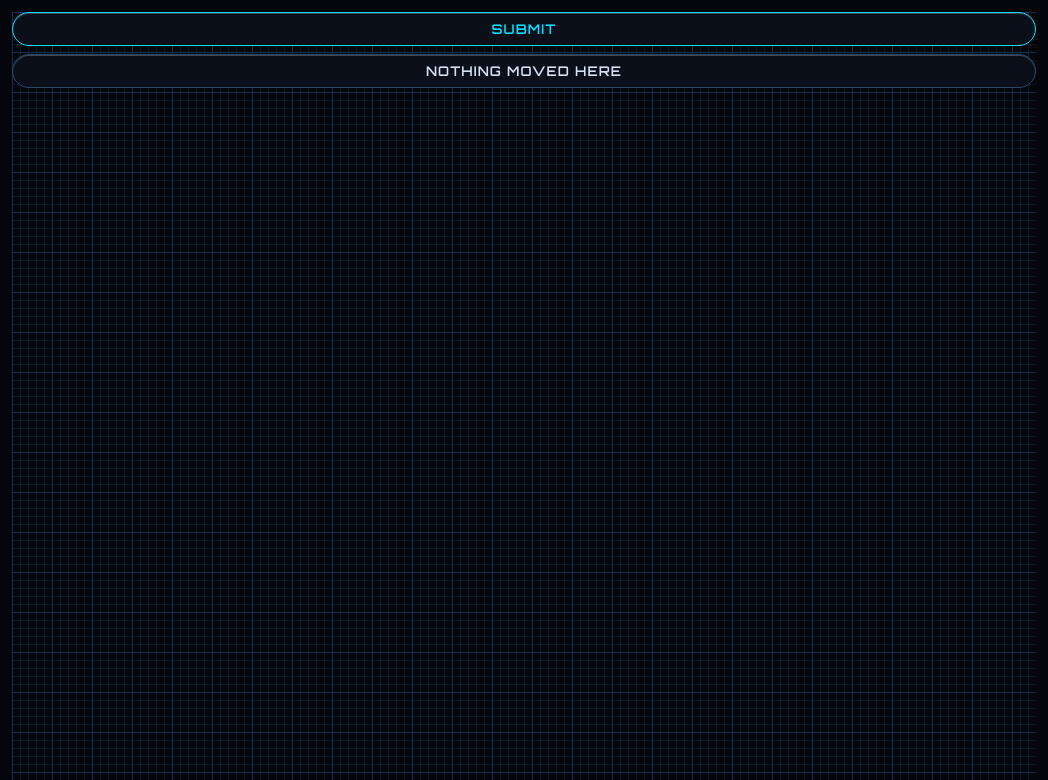
Test: SubmitBar › shows the calm message when the network fails
Click the button "Nothing moved here".
click(524, 71)  # box top-left (12, 54), bottom-right (1036, 88)
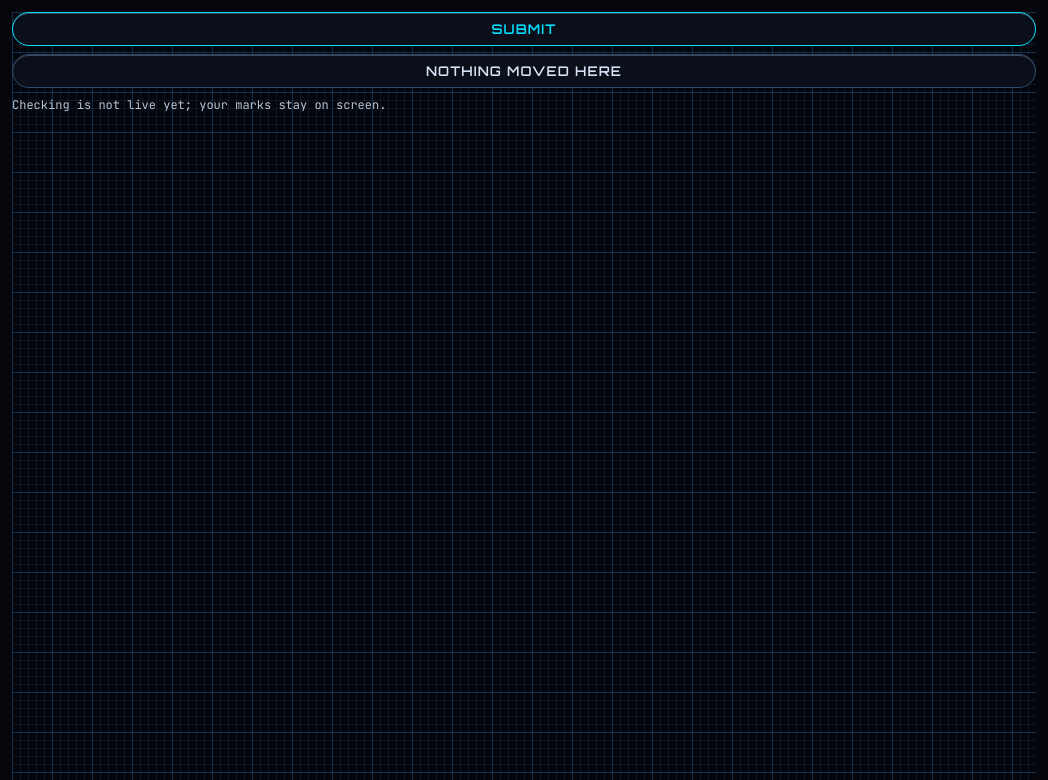
Check: the text "Checking is not live yet; your marks stay on screen." is shown, box top-left (12, 97), bottom-right (386, 113)
